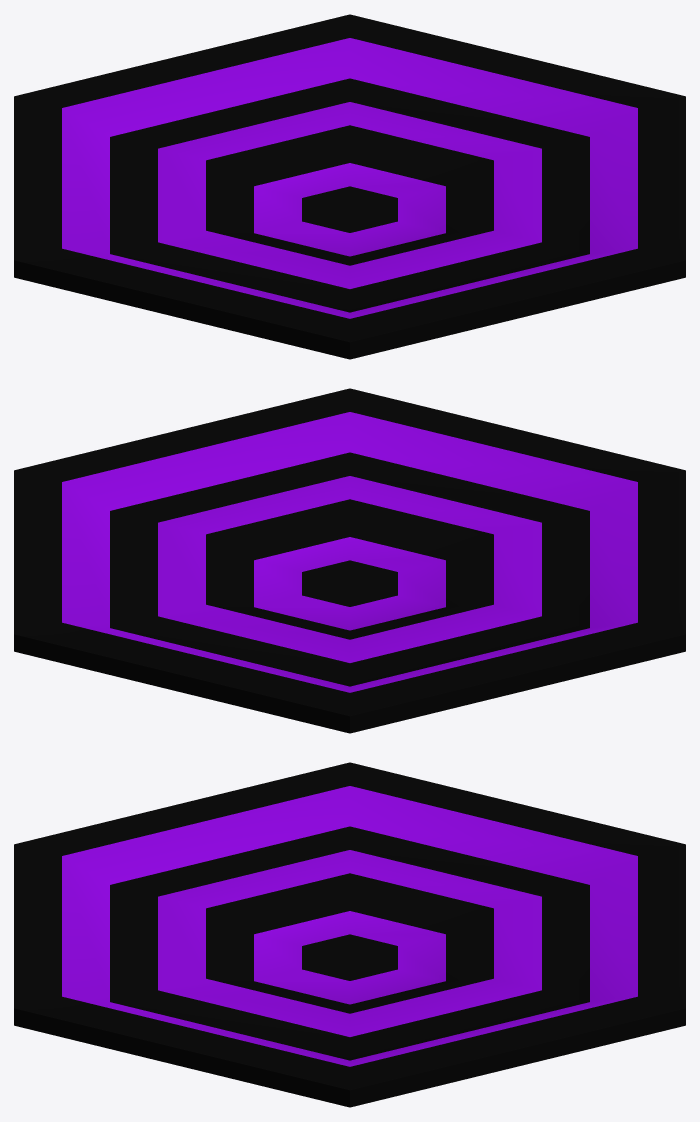
The model's file is main lift.fbx.
3 renders of one model, top to bottom at view 1: azimuth 30°, elevation 25°; view 2: azimuth 150°, elevation 25°; view 3: azimuth 270°, elevation 25°, orthographic.
Parts seen in each view (by area): view 1: pCylinder16; view 2: pCylinder16; view 3: pCylinder16.
Boxes of the visible parts, left/top/right/bottom form: pCylinder16: left=14, top=14, right=685, bottom=359; pCylinder16: left=14, top=388, right=685, bottom=733; pCylinder16: left=14, top=762, right=685, bottom=1107.
Size of the model in its own units: 4.52 by 0.3125 by 3.91.
